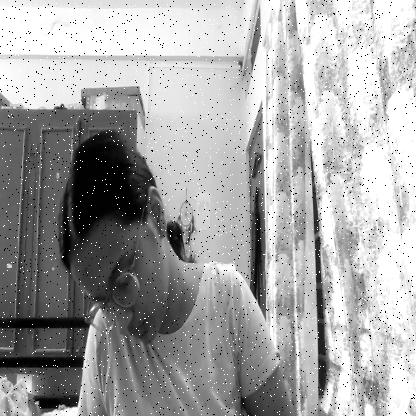Distracted: (71, 127, 179, 347)
